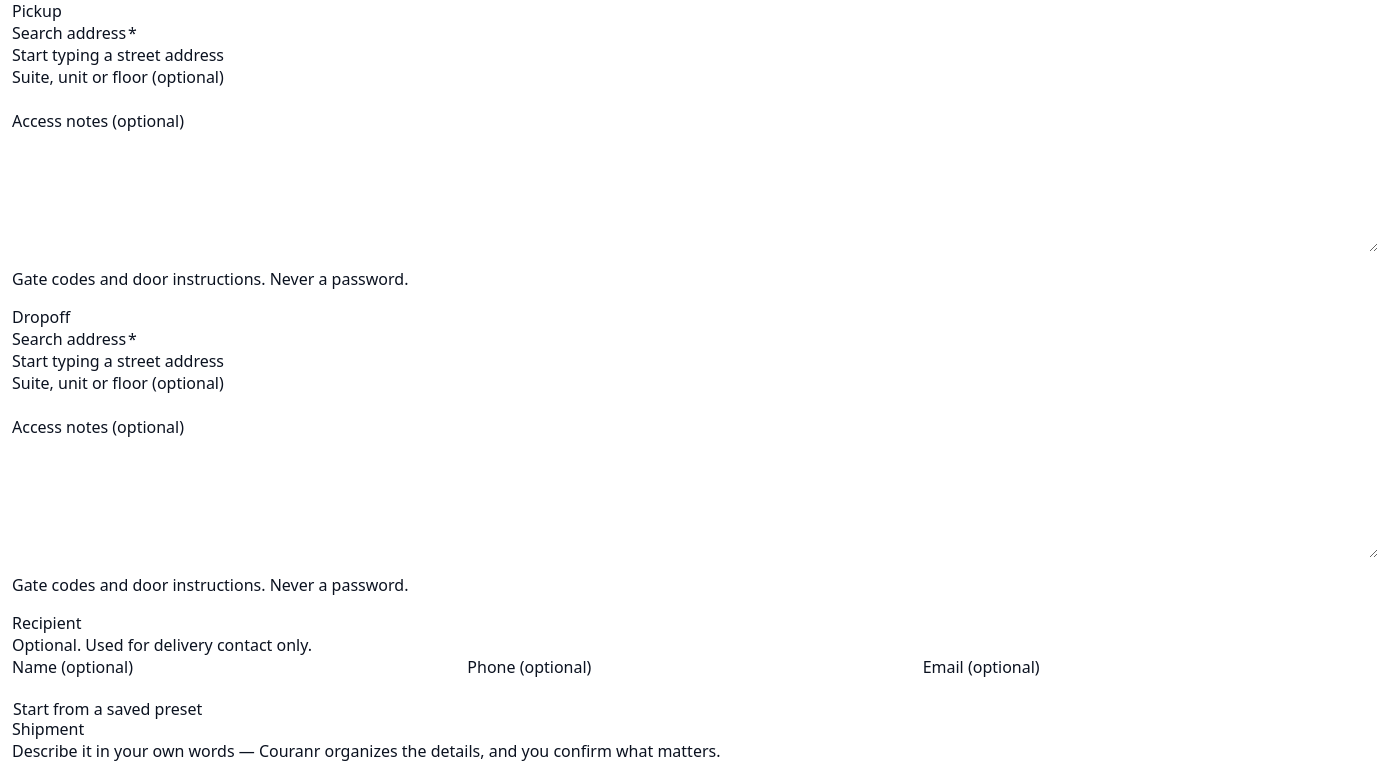
Test: preset application in New Delivery › fetches presets only when the picker is opened, not at mount
This screenshot has width=1390, height=763.
Click the button with test id "preset-start-open".
click(108, 709)  # box [12,700,203,718]
(page scrolled)
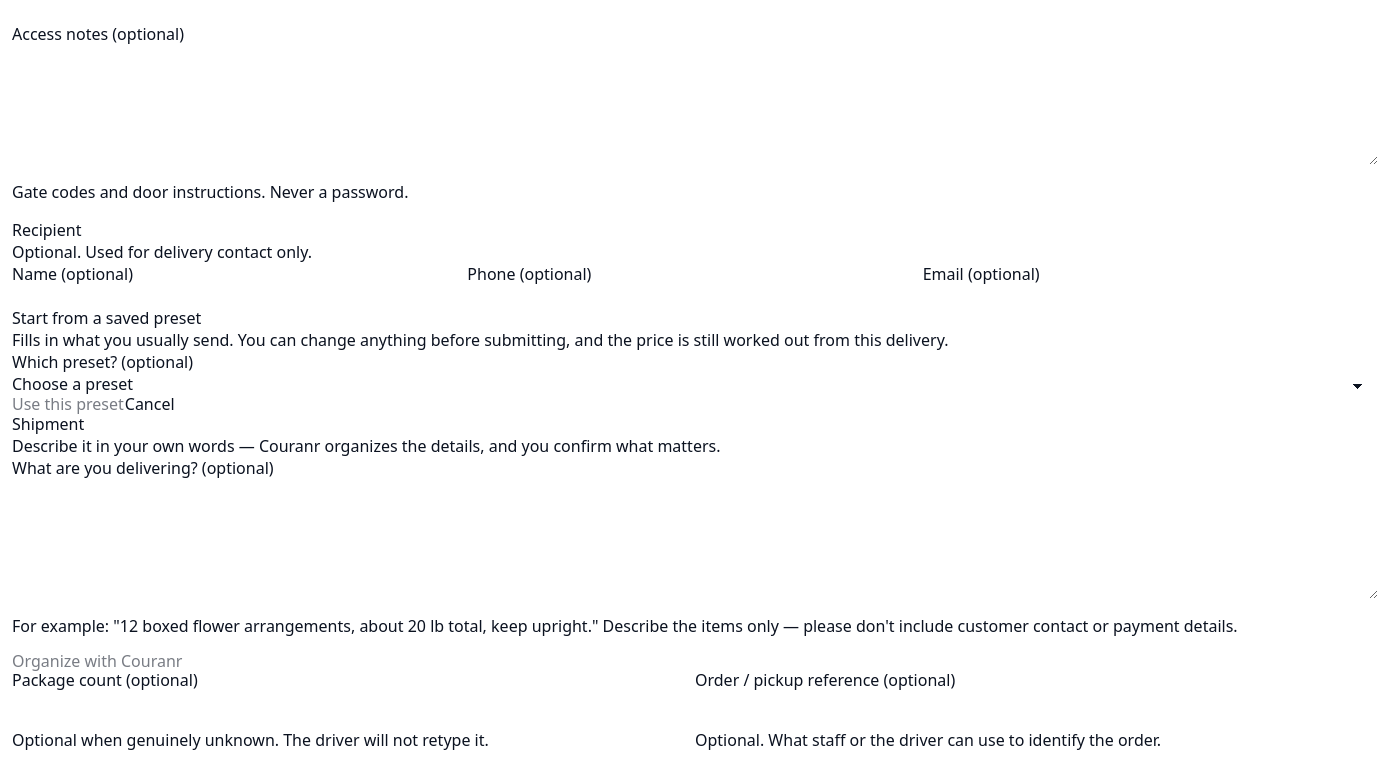
Expected: the dropdown with test id "preset-start-select" is shown, [12,373,1378,395]
